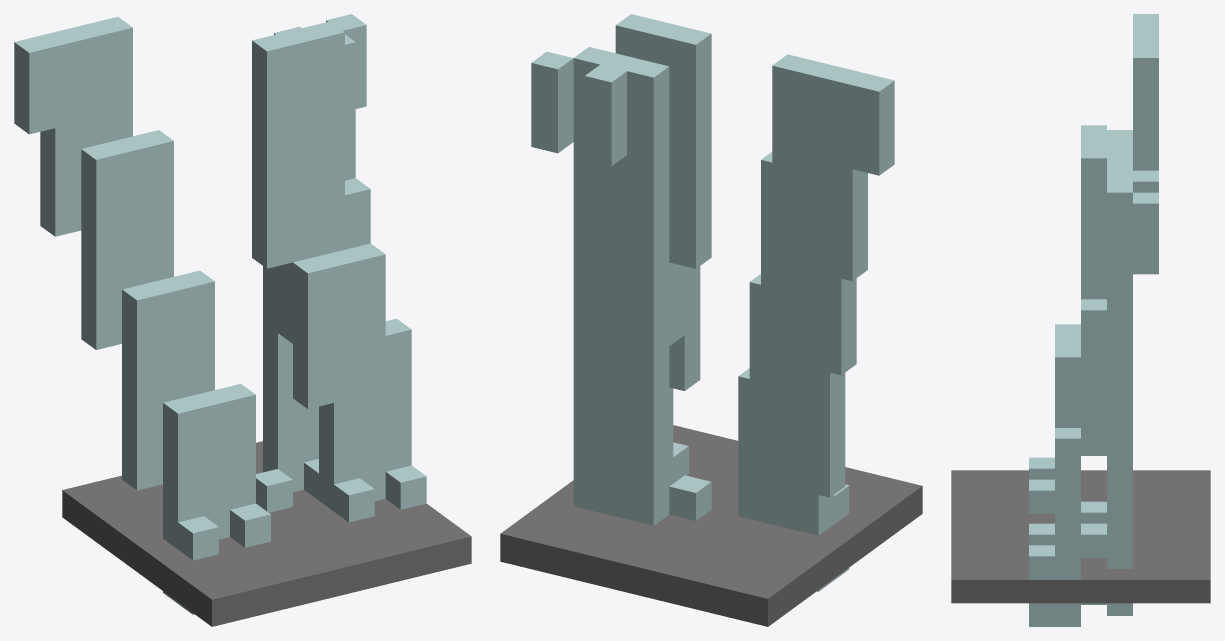
File: mat_frost_crystal.glb
3 views of the same model, side by side, from view 1: azimuth 30°, elevation 25°; view 2: azimuth 150°, elevation 25°; view 3: azimuth 270°, elevation 25° (orthographic). The views are drawn at different scales.
Visible parts, largest first — view 1: mat_frost_crystal; view 2: mat_frost_crystal; view 3: mat_frost_crystal.
Part boxes in pixels (x1,y1,x2,y2): mat_frost_crystal: (14, 14, 471, 626); mat_frost_crystal: (500, 14, 922, 626); mat_frost_crystal: (951, 14, 1210, 626).
Size of the model in its own units: 0.156 by 0.24 by 0.12.
